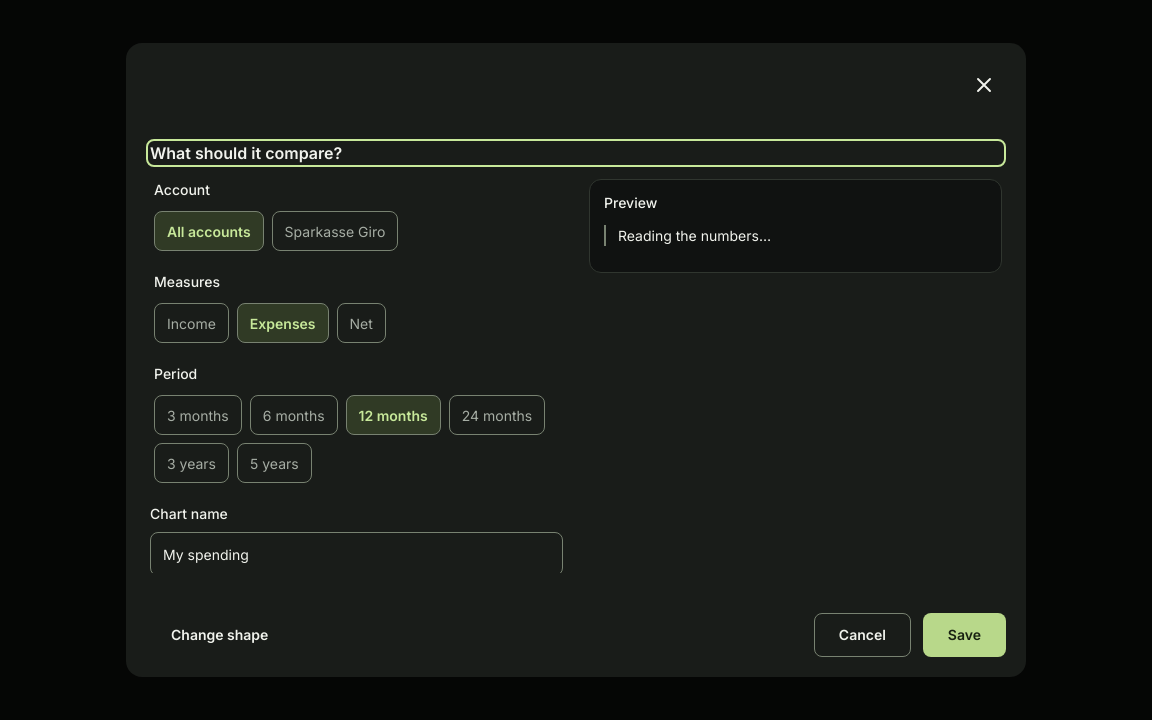
Scenario: ChartWizard field and preview context › retries a refused preview without resetting draft values or losing orientation
Replace the text in the field labelled "Chart name" with "My draft remains" at (356, 554), box [150,532,563,576]
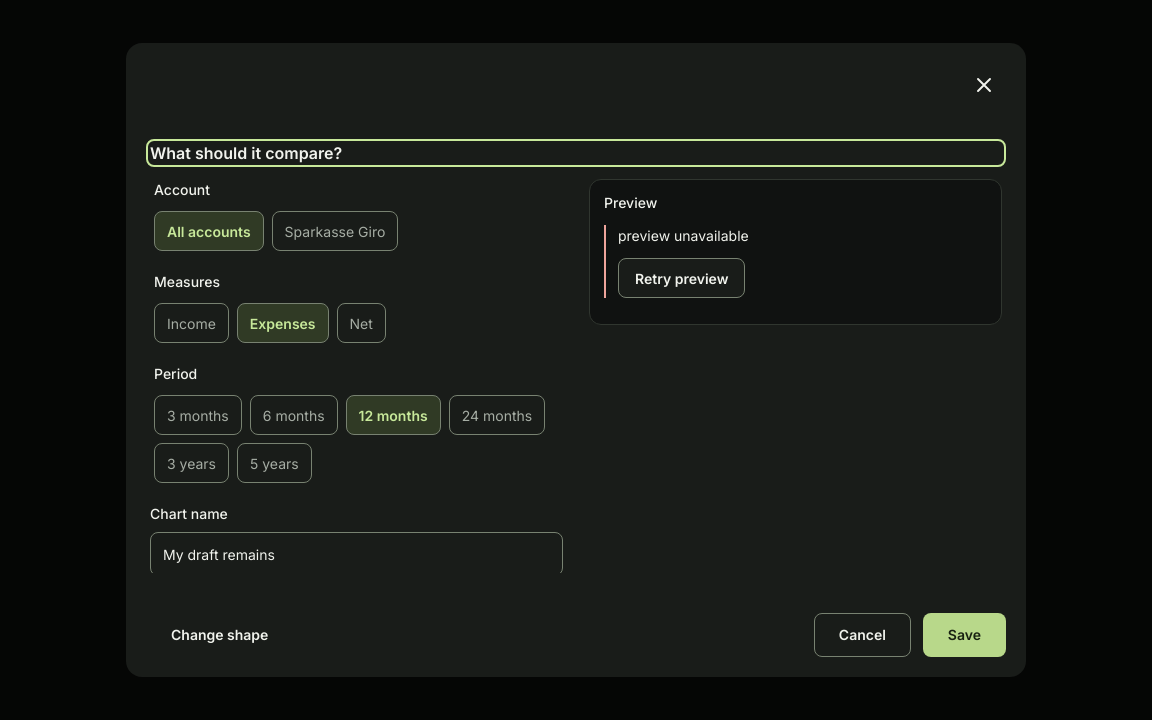
Click the button "Retry preview" at (682, 278), box [618,258,745,298]
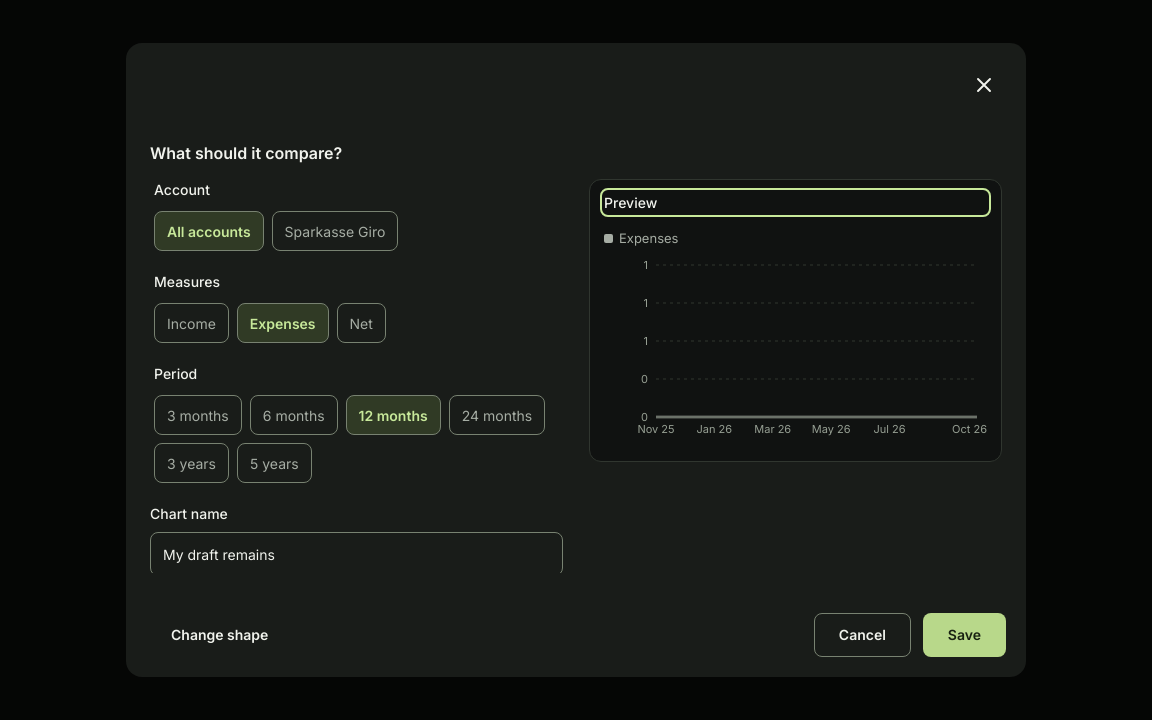
Expected: the text "Reading the numbers…" is not shown
Expected: the text "preview unavailable" is gone
